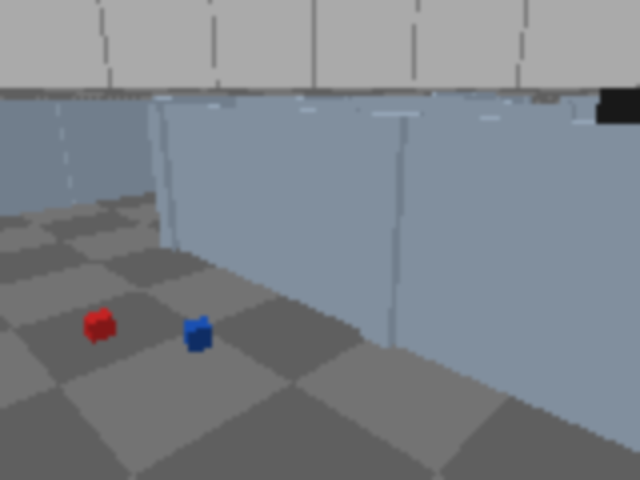puck: (82, 309, 117, 343), (183, 317, 213, 353)
